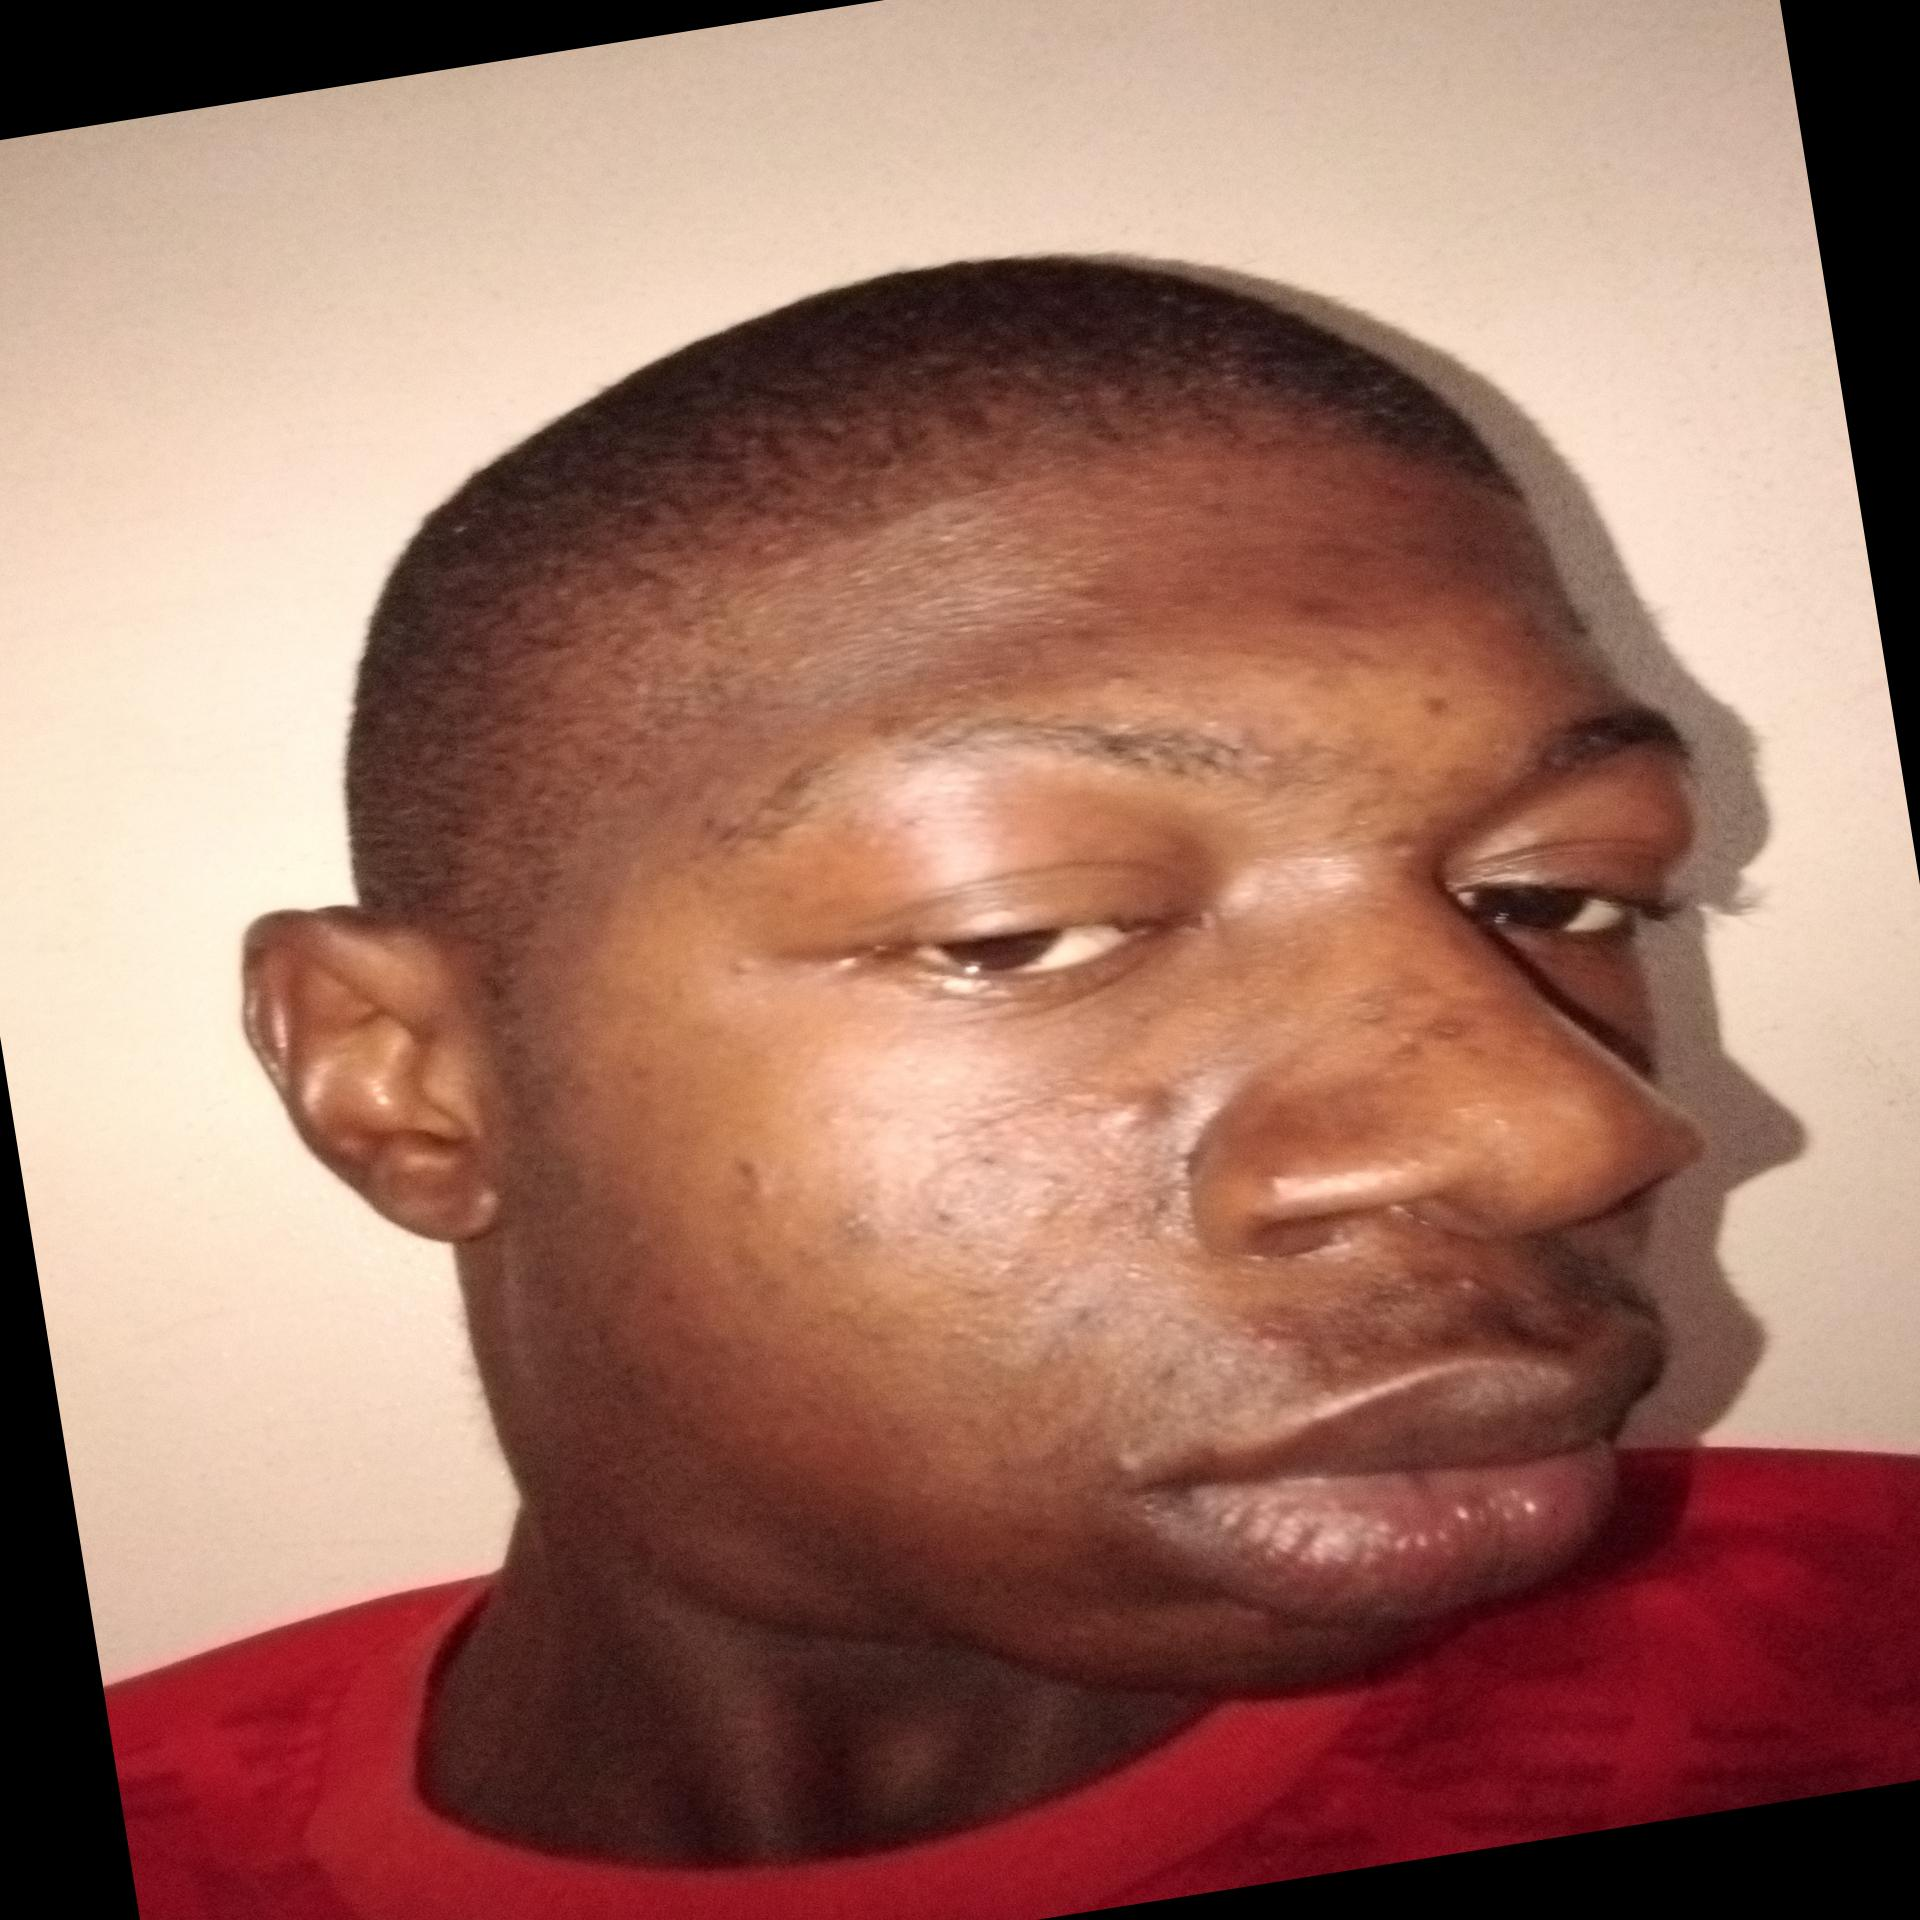Acne: (1245, 631, 1391, 710), (1257, 571, 1375, 651), (1088, 1074, 1187, 1152), (1338, 964, 1445, 1034), (1041, 563, 1122, 654), (1363, 740, 1487, 796), (1370, 1011, 1477, 1074), (1233, 1301, 1315, 1363), (1092, 1435, 1166, 1489), (723, 1148, 781, 1210), (1359, 811, 1417, 867), (828, 1199, 883, 1259), (1136, 1352, 1196, 1401), (1187, 484, 1240, 529), (1414, 687, 1468, 726), (1102, 659, 1155, 696), (716, 946, 770, 981), (1454, 1266, 1507, 1299)
Blackhead: (1057, 1152, 1190, 1254), (907, 1146, 1025, 1238), (1011, 1261, 1106, 1342)
